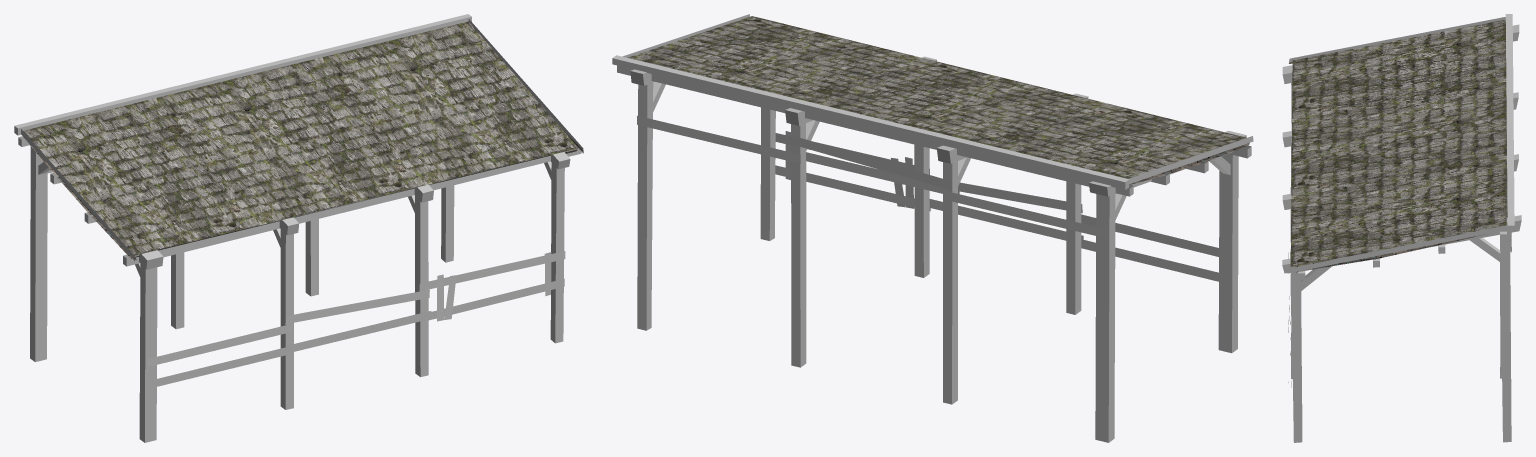
The model's file is Shed8_LOD2.fbx.
3 views of the same model, side by side, from view 1: azimuth 30°, elevation 25°; view 2: azimuth 150°, elevation 25°; view 3: azimuth 270°, elevation 25° (orthographic). The views are drawn at different scales.
Visible parts, largest first — view 1: polySurface1159; view 2: polySurface1159; view 3: polySurface1159.
Boxes of the visible parts, bbox=[...] form: polySurface1159: bbox=[14, 14, 583, 442]; polySurface1159: bbox=[612, 14, 1253, 442]; polySurface1159: bbox=[1282, 14, 1521, 442].
Bounding box in the file's own units: 11.77 × 5.88 × 5.63.
